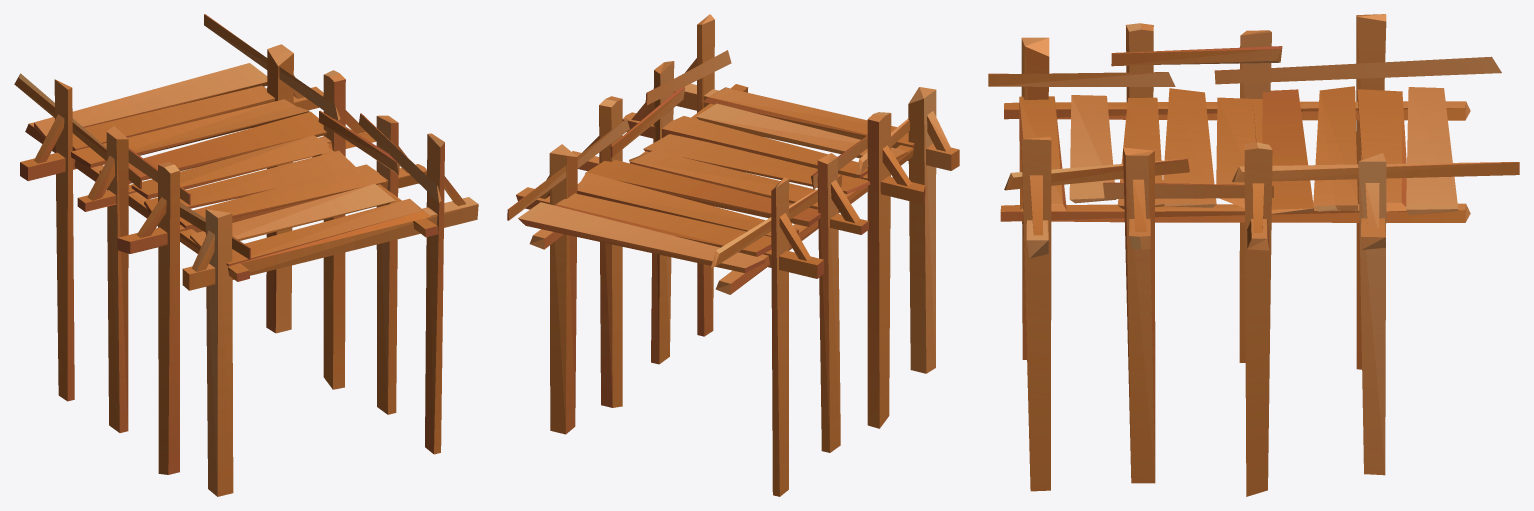
The model's file is GL-Manmade-05-LOD3.fbx.
3 views of the same model, side by side, from view 1: azimuth 30°, elevation 25°; view 2: azimuth 150°, elevation 25°; view 3: azimuth 270°, elevation 25° (orthographic). The views are drawn at different scales.
Visible parts, largest first — view 1: GL_Manmade_05; view 2: GL_Manmade_05; view 3: GL_Manmade_05.
Boxes of the visible parts, x1,y1,x2,y2 form: GL_Manmade_05: (14, 14, 478, 496); GL_Manmade_05: (507, 14, 959, 496); GL_Manmade_05: (988, 14, 1519, 496).
Size of the model in its own units: 1.25 by 1.23 by 1.66.
